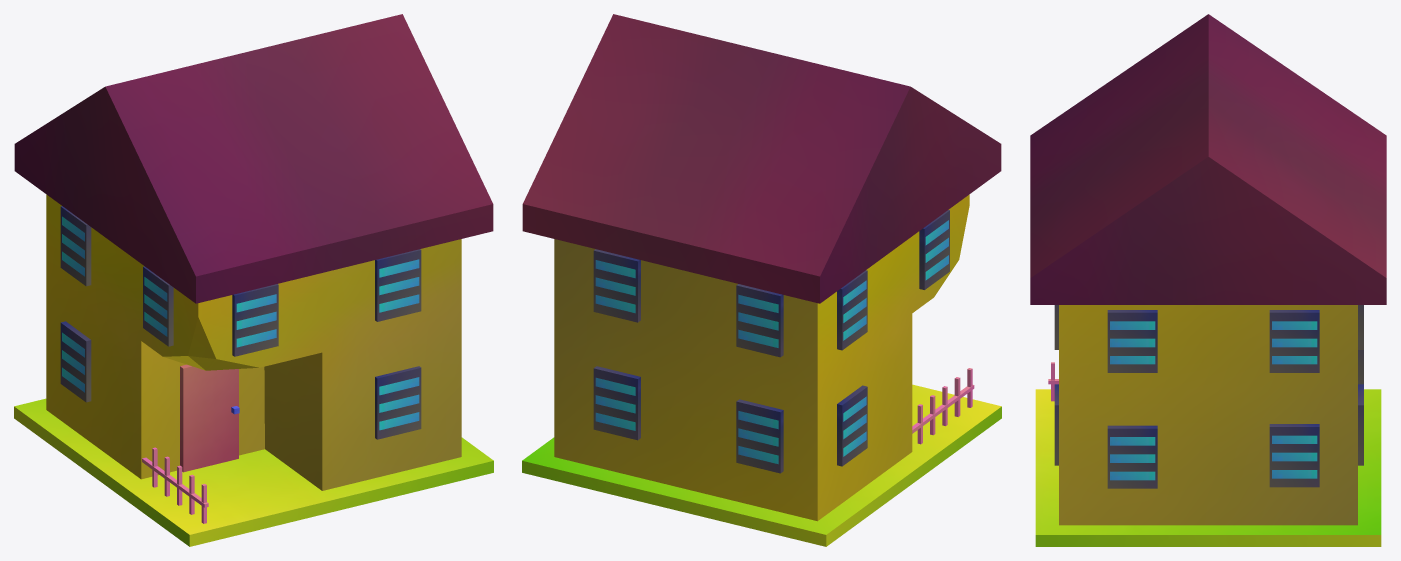
File: House_14.fbx
The picture shows the model from 3 angles, left to right: view 1: azimuth 30°, elevation 25°; view 2: azimuth 150°, elevation 25°; view 3: azimuth 270°, elevation 25°; orthographic projection.
Visible parts, largest first — view 1: House.14; view 2: House.14; view 3: House.14.
Boxes of the visible parts, <box> form: House.14: <box>14,14,493,546</box>; House.14: <box>522,14,1001,546</box>; House.14: <box>1030,14,1386,546</box>.
Bounding box in the file's own units: 713 × 885 × 736.
1 material, 1 textured.
